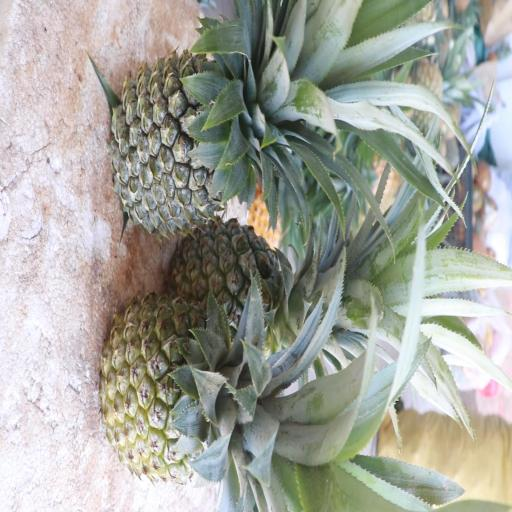------------------------------: (97, 289, 332, 494), (167, 214, 354, 354)
